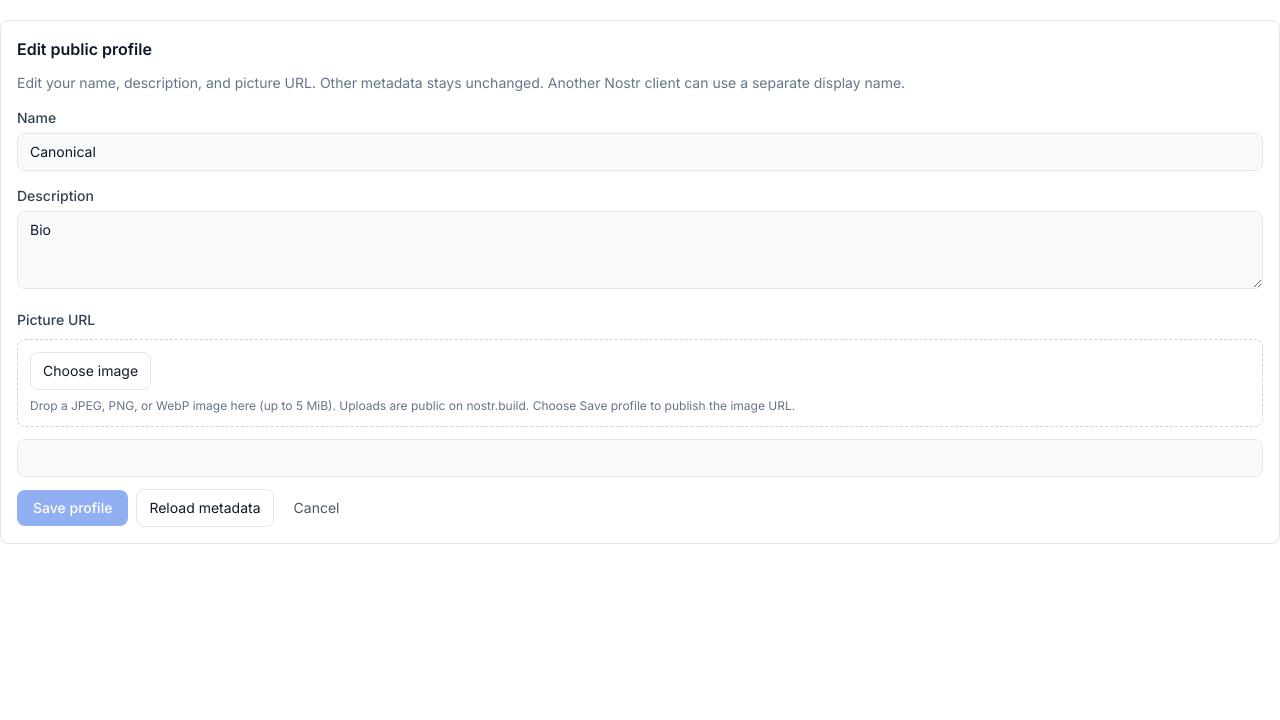
Test: Nostr profile editor › cancels the current operation with a signal and preserves an already-accepted result truthfully
The image size is (1280, 720).
Replace the text in the field labelled "Name" with "Draft" at (640, 152), box [17, 133, 1263, 171]
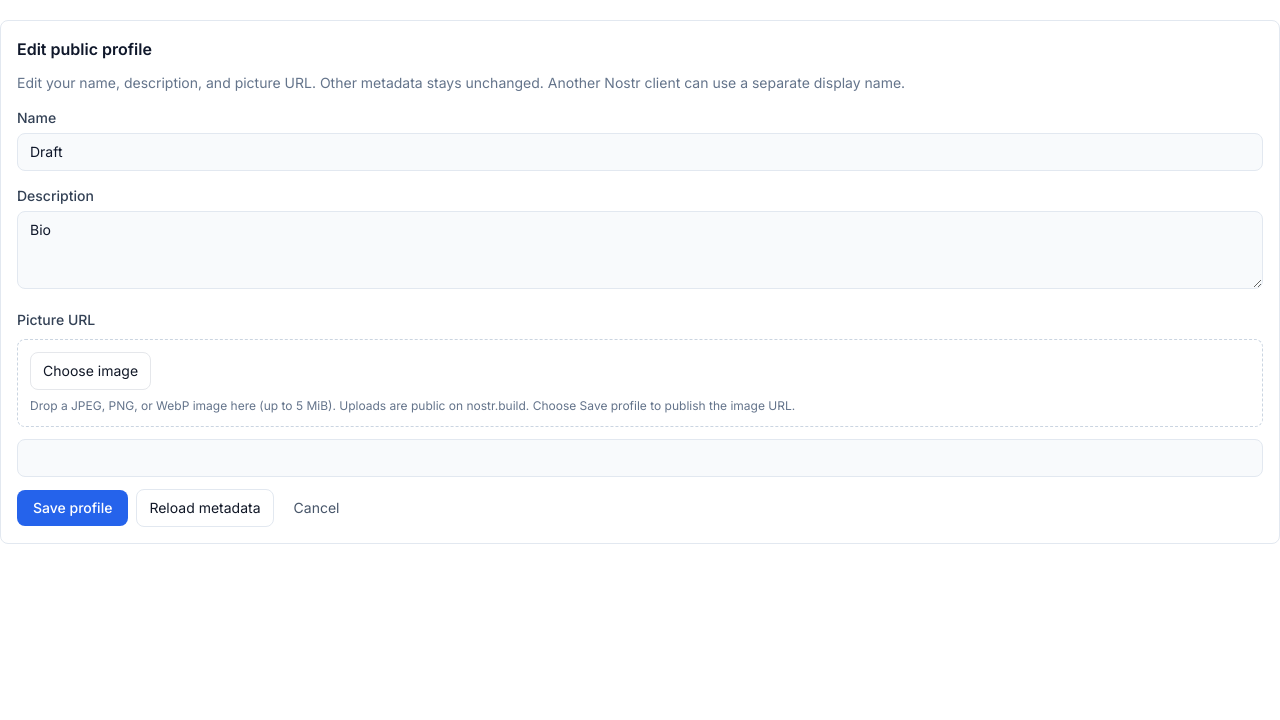
Click the button "Save profile" at (73, 508), box [17, 490, 128, 526]
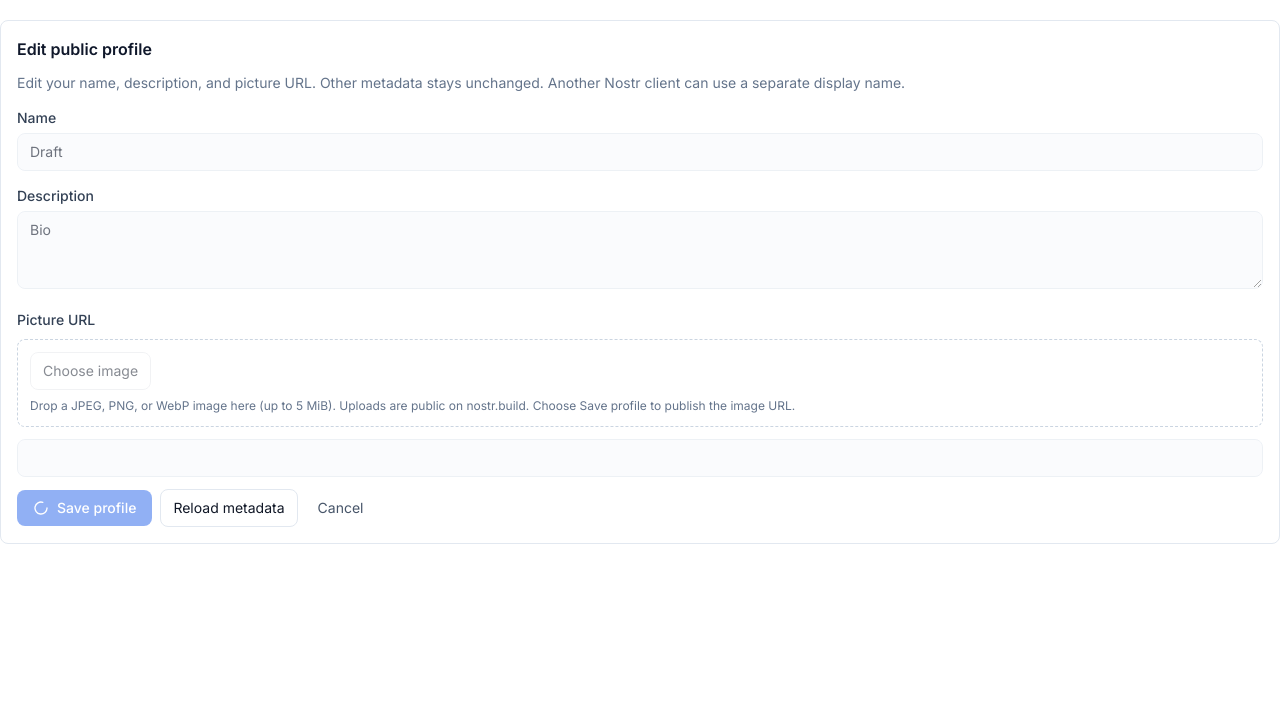
Click the button "Cancel" at (340, 508), box [306, 490, 375, 526]
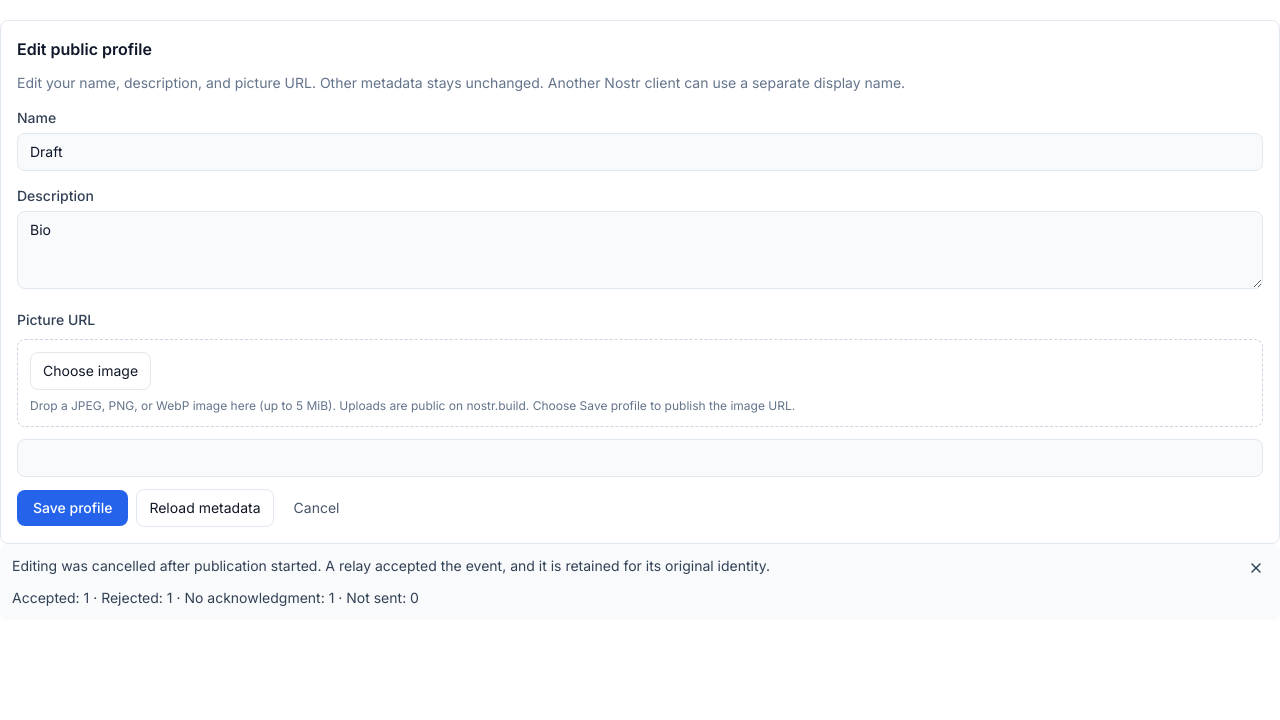
Expected: the message shows "cancelled after publication started", [12, 557, 770, 574]
